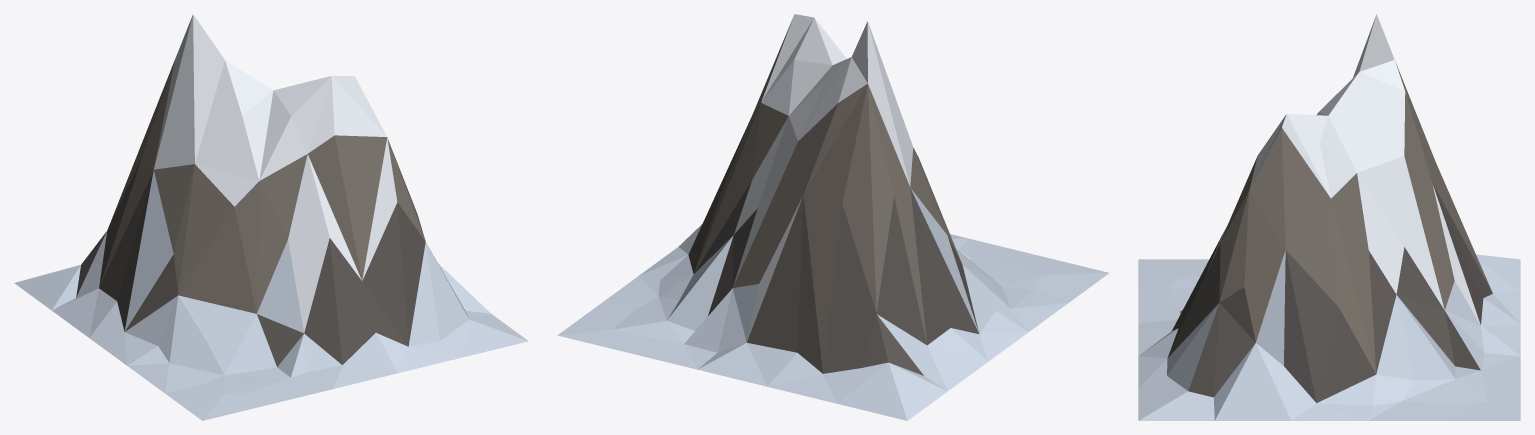
Rendered from mountain_snow_b.obj.
3 views of the same model, side by side, from view 1: azimuth 30°, elevation 25°; view 2: azimuth 150°, elevation 25°; view 3: azimuth 270°, elevation 25° (orthographic). The views are drawn at different scales.
Bounding box in the file's own units: 4 × 3.45 × 4.
